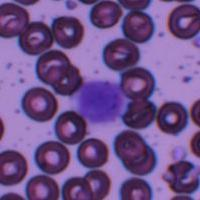L: (70, 76, 126, 126)
